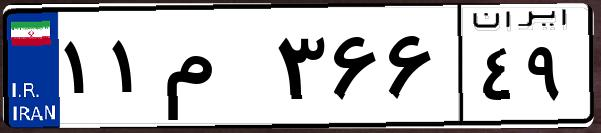1: (57, 26, 110, 100), (110, 28, 158, 98)
3: (270, 28, 330, 110)
4: (475, 38, 525, 113)
6: (385, 28, 445, 110), (330, 28, 385, 110)
9: (525, 38, 570, 115)
م: (158, 20, 270, 120)
